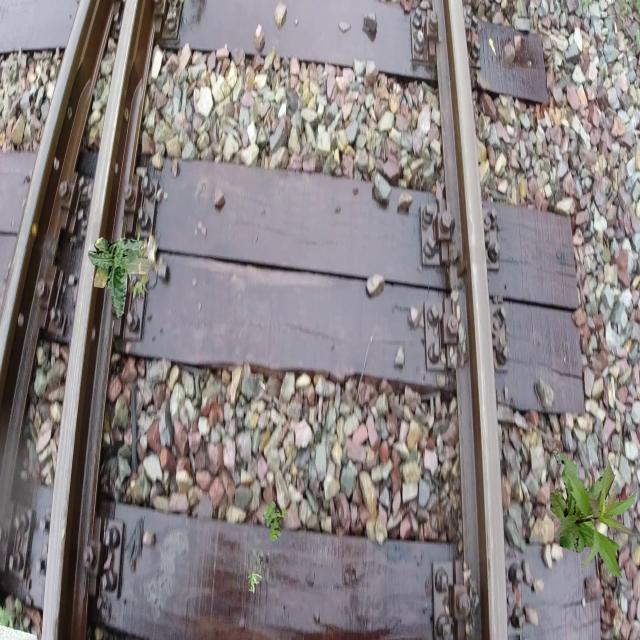Plant: (550, 449, 638, 579), (88, 237, 152, 320), (110, 229, 152, 300), (263, 501, 287, 542), (248, 573, 262, 594)
